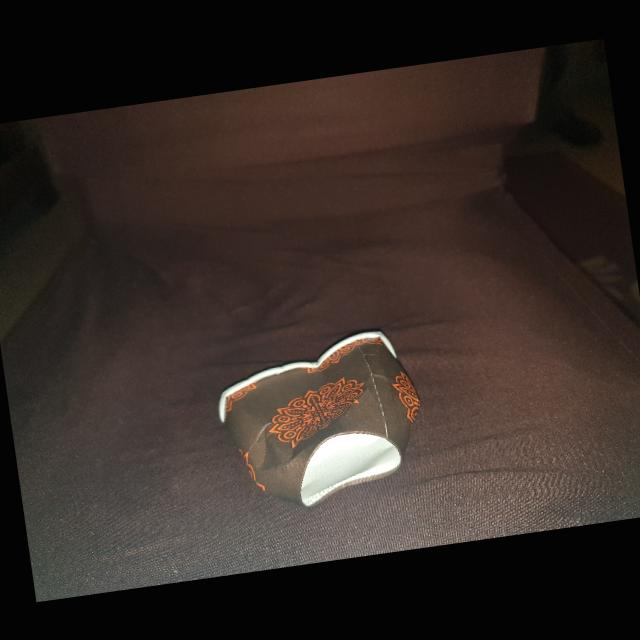trash: (207, 320, 439, 520)
